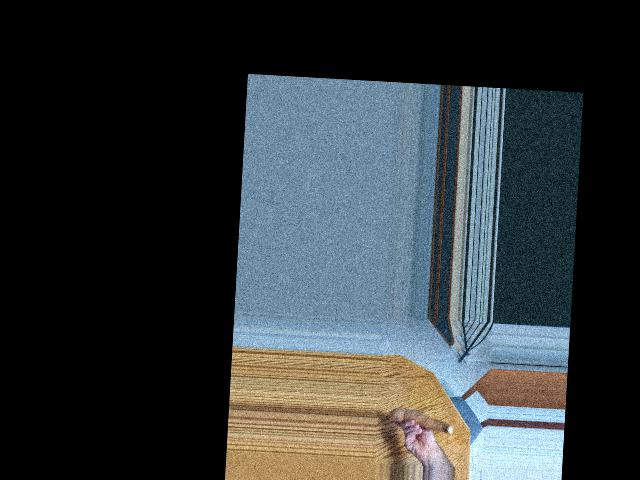sweet_potato: (392, 405, 451, 436)
